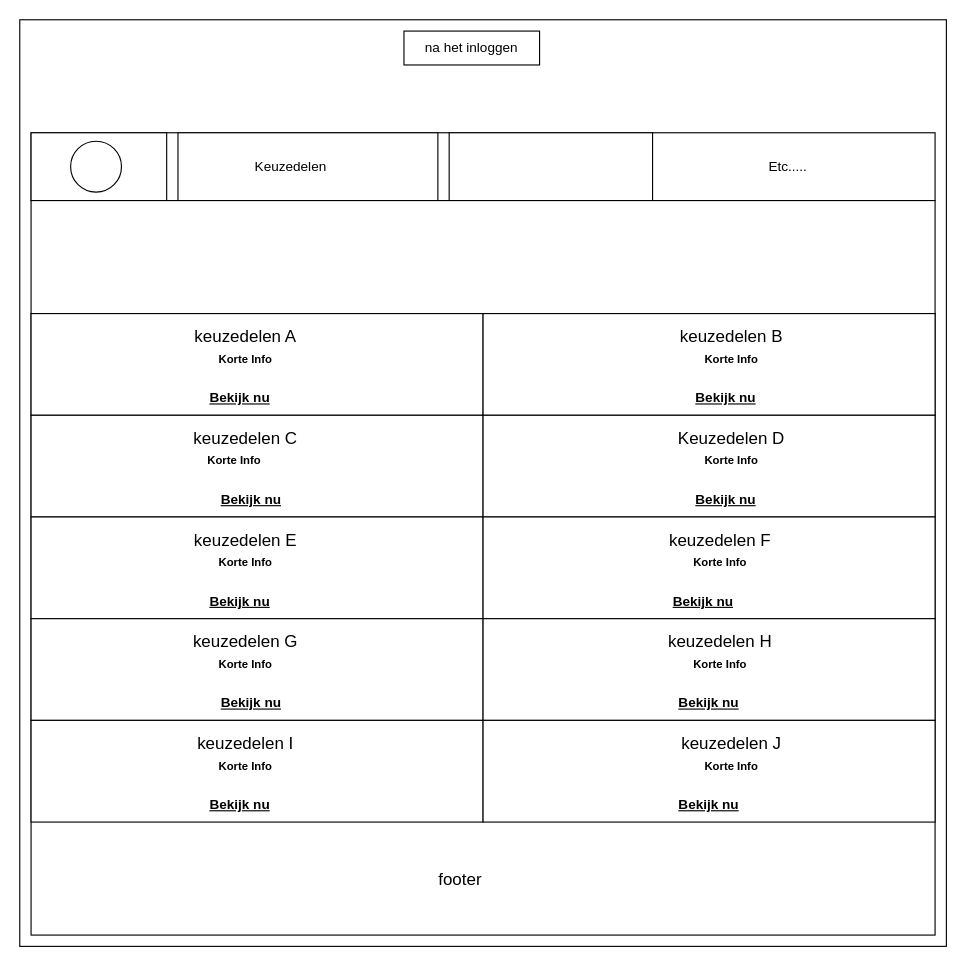
Image size: 966x966. Some labels were removed from this diagram. Here are the shapes that lost their labels. From the top down, the box of each, then its label:
(448, 132, 653, 201): Inschrijven
(30, 199, 935, 314): Welkome {Student Naam}
